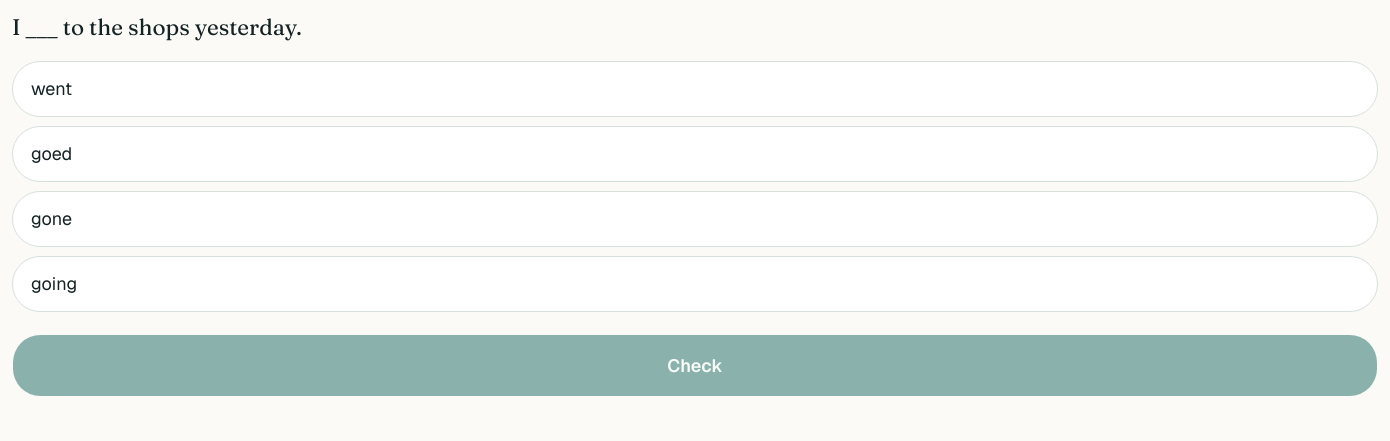
Test case: the feedback state machine › the explanation panel renders nothing when the item carries no explanation
Click the button "went".
click(52, 89)  # box [12, 61, 1378, 117]
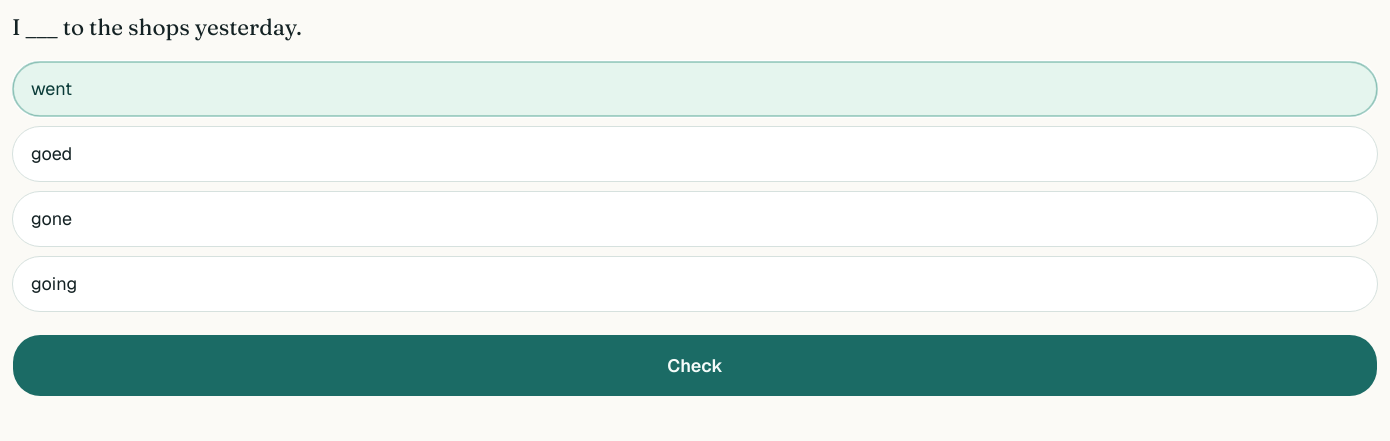
Click the button "Check".
click(695, 366)  # box [12, 334, 1378, 397]
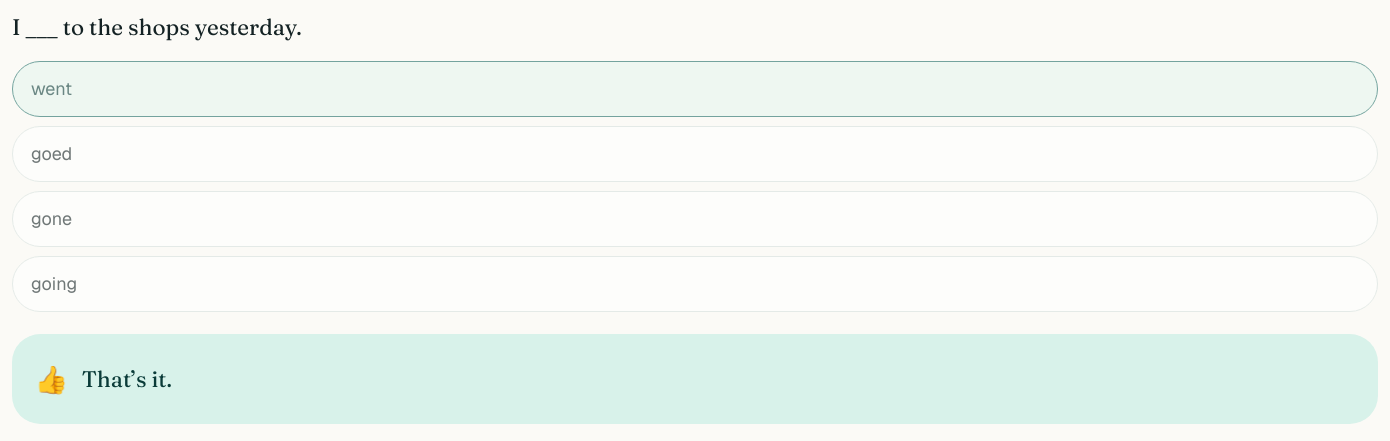
Result: the element with test id "feedback" is shown at [12, 334, 1378, 424]
